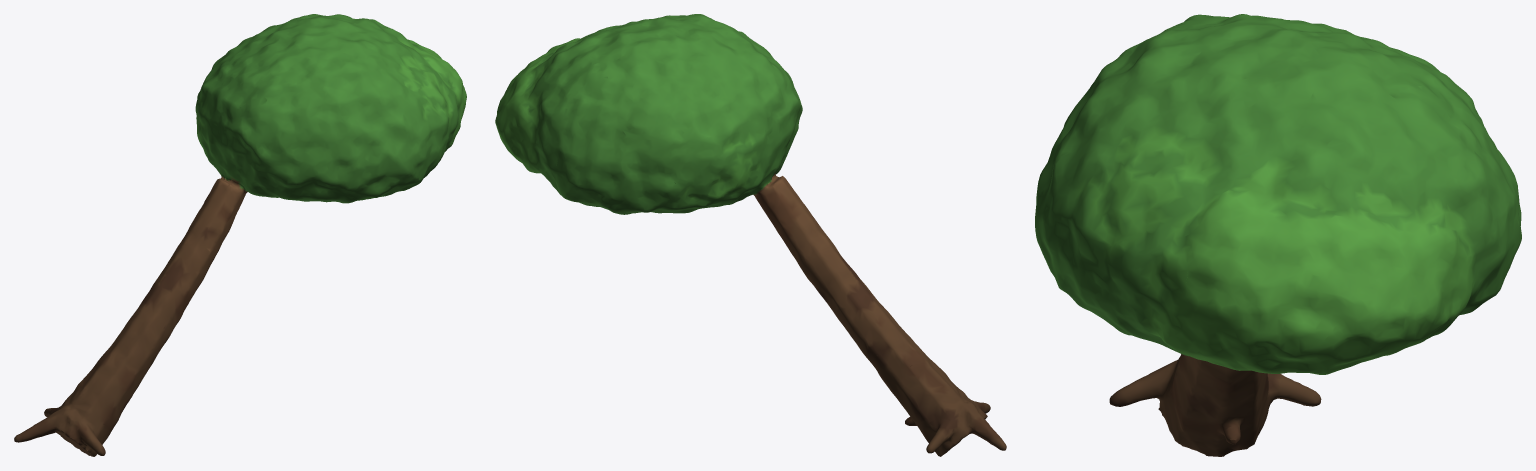
Rendered from broadleaf_leaning.glb.
The picture shows the model from 3 angles, left to right: view 1: azimuth 30°, elevation 25°; view 2: azimuth 150°, elevation 25°; view 3: azimuth 270°, elevation 25°; orthographic projection. The views are drawn at different scales.
Parts seen in each view (by area): view 1: broadleaf_leaning_LOD0; view 2: broadleaf_leaning_LOD0; view 3: broadleaf_leaning_LOD0.
Boxes of the visible parts, bbox=[...] form: broadleaf_leaning_LOD0: bbox=[14, 14, 466, 456]; broadleaf_leaning_LOD0: bbox=[495, 14, 1006, 456]; broadleaf_leaning_LOD0: bbox=[1035, 14, 1521, 456].
Size of what is drawn, in the model's own units: 5.12 by 3.73 by 2.58.
